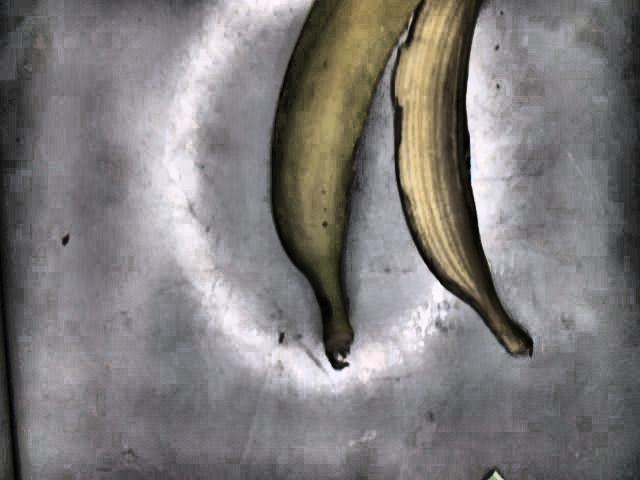Almennt: (265, 0, 533, 367)
